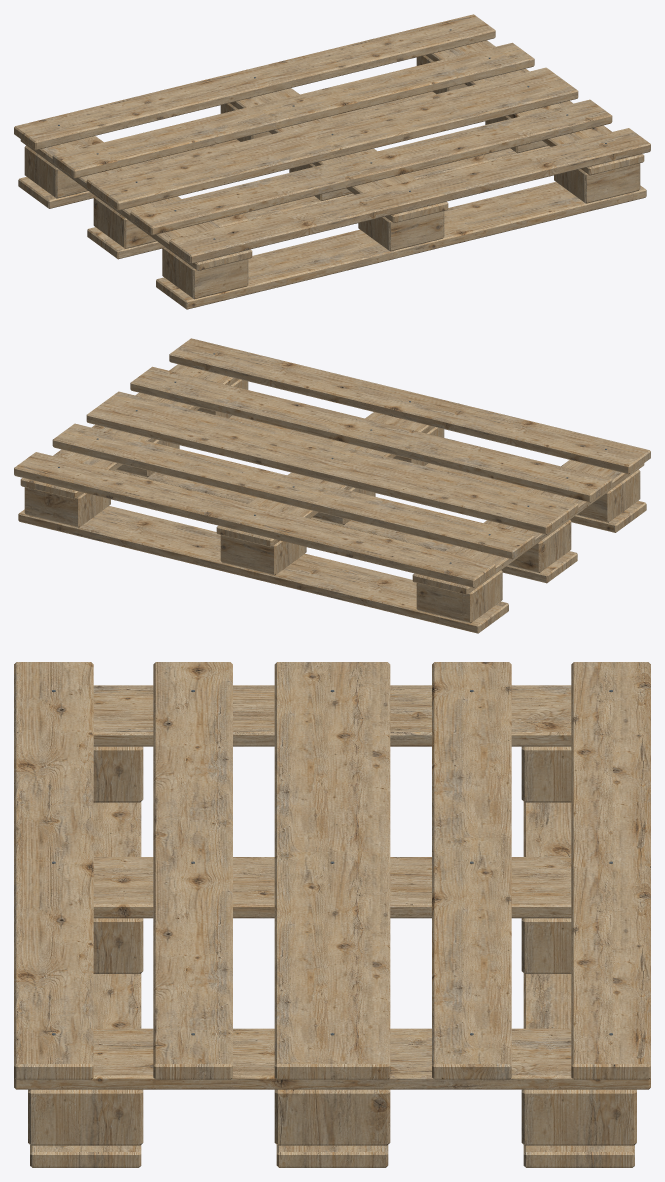
Rendered from wood_pallet.glb.
3 renders of one model, top to bottom at view 1: azimuth 30°, elevation 25°; view 2: azimuth 150°, elevation 25°; view 3: azimuth 270°, elevation 25°, orthographic. The views are drawn at different scales.
Visible parts, largest first — view 1: wood_pallet; view 2: wood_pallet; view 3: wood_pallet.
Boxes of the visible parts, <box> form: wood_pallet: <box>14,14,650,309</box>; wood_pallet: <box>14,338,650,633</box>; wood_pallet: <box>14,662,650,1167</box>.
Bounding box in the file's own units: 1.2 × 0.145 × 0.8.
Materials: 2 (1 with a texture image).
